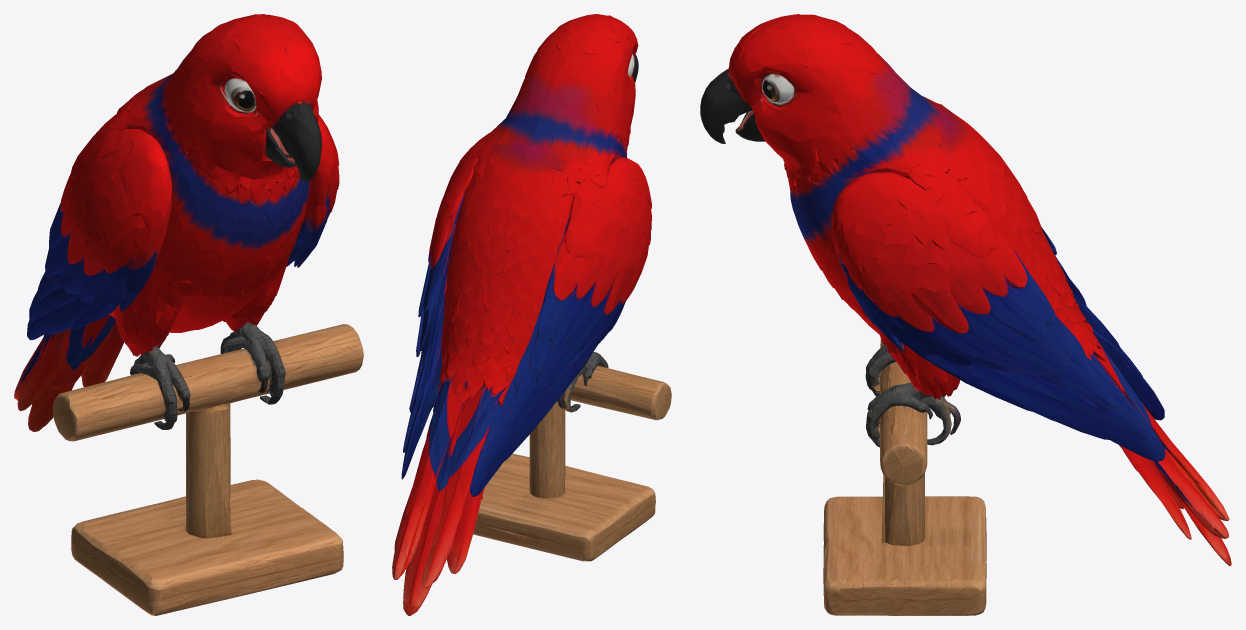
File: jelly-healthy.glb
3 views of the same model, side by side, from view 1: azimuth 30°, elevation 25°; view 2: azimuth 150°, elevation 25°; view 3: azimuth 270°, elevation 25° (orthographic). The views are drawn at different scales.
Bounding box in the file's own units: 0.9939 × 1.9 × 1.66.
1 material, 1 textured.
